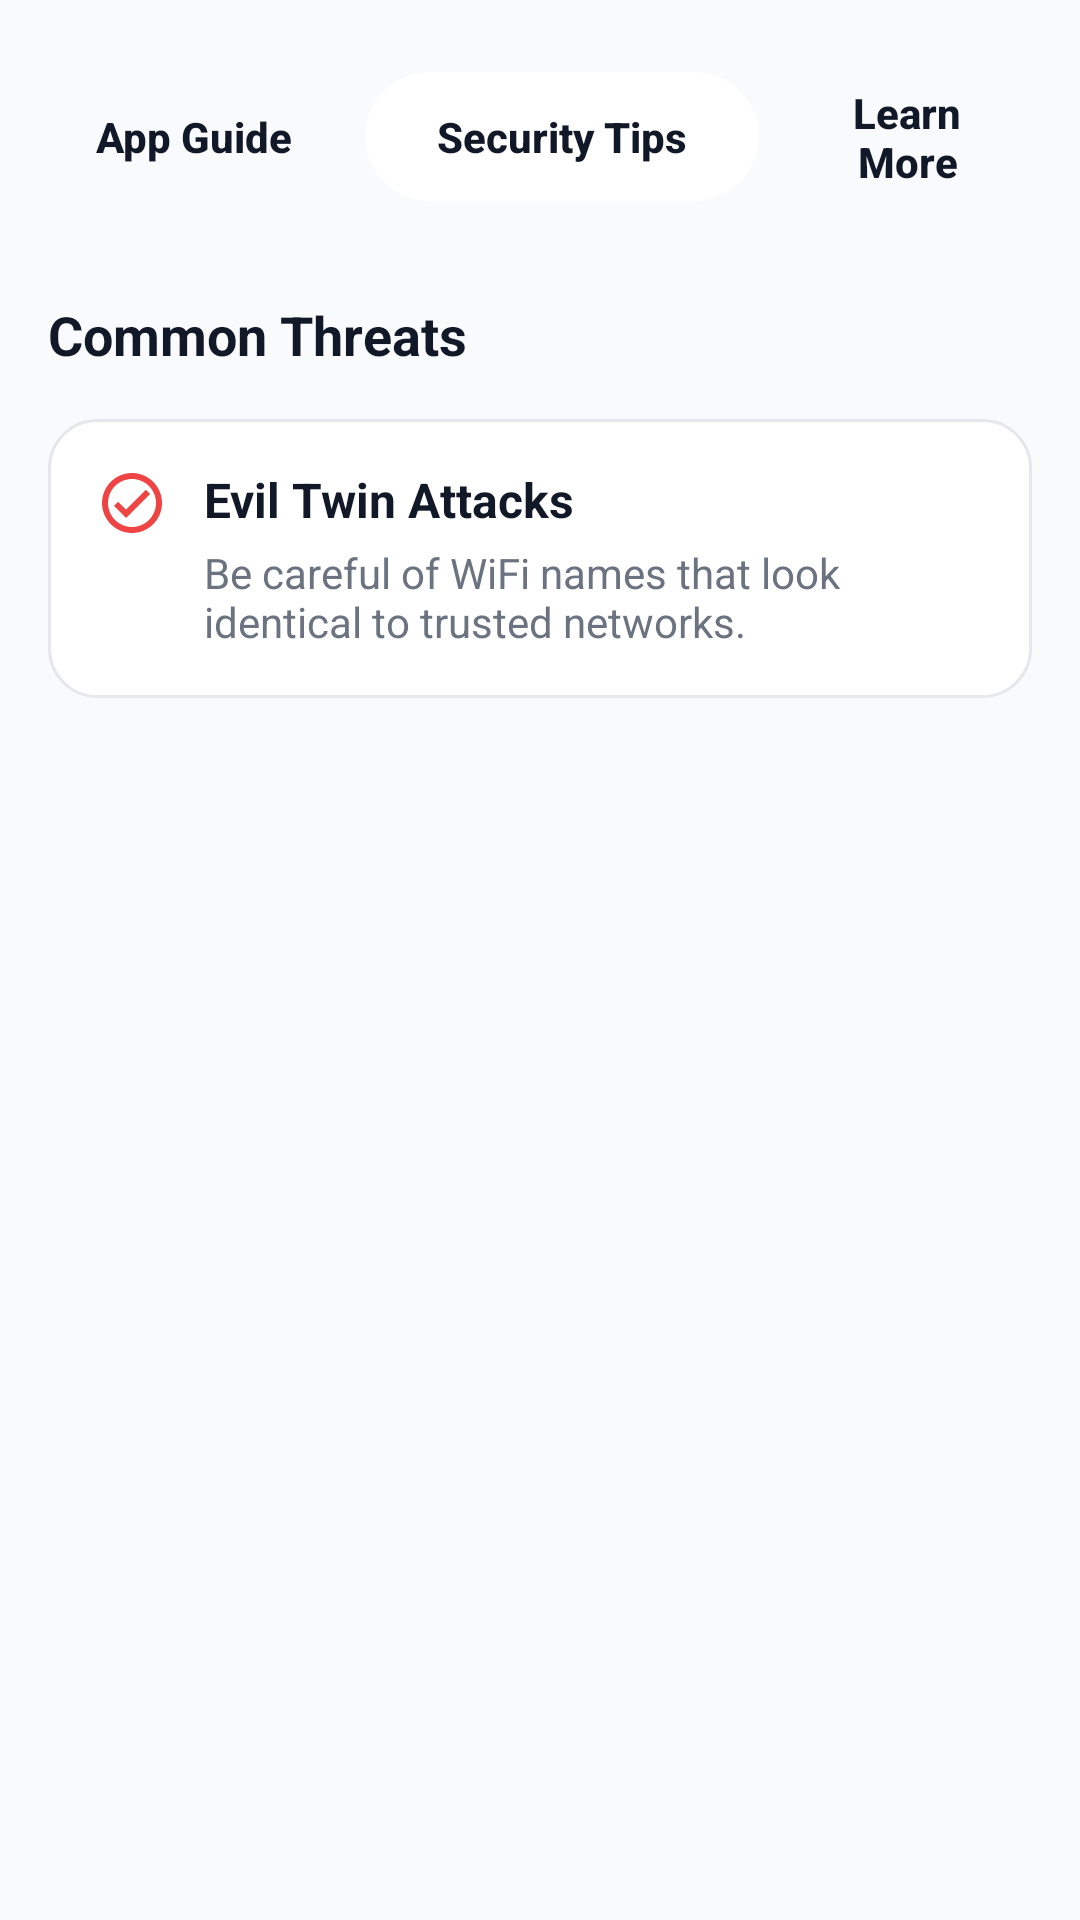

Icons on this 1080px x 1920px Android screen, each with the point to tap as point (x, y):
check circle: point (132, 503)
